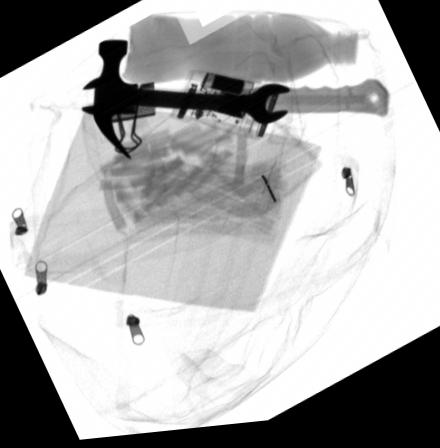Hammer: (92, 40, 388, 162)
Wrench: (80, 78, 289, 128)
